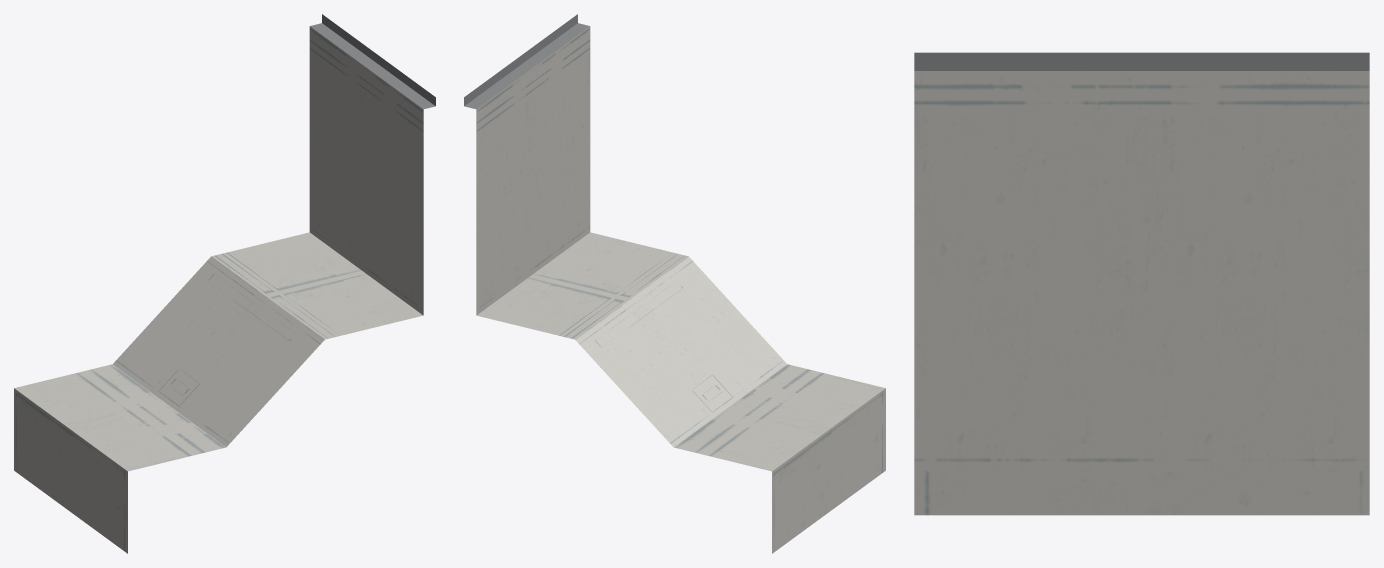
File: G_Env_Arch_Ceiling_03_NoGlass.fbx
The picture shows the model from 3 angles, left to right: view 1: azimuth 30°, elevation 25°; view 2: azimuth 150°, elevation 25°; view 3: azimuth 270°, elevation 25°; orthographic projection. The views are drawn at different scales.
Visible parts, largest first — view 1: G_Env_Arch_Ceiling_03_NoGlass; view 2: G_Env_Arch_Ceiling_03_NoGlass; view 3: G_Env_Arch_Ceiling_03_NoGlass.
Boxes of the visible parts, <box> form: G_Env_Arch_Ceiling_03_NoGlass: <box>14,14,435,553</box>; G_Env_Arch_Ceiling_03_NoGlass: <box>464,14,885,553</box>; G_Env_Arch_Ceiling_03_NoGlass: <box>914,52,1369,515</box>.
Bounding box in the file's own units: 781 × 925 × 500.
